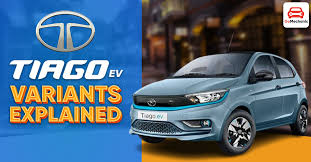Tiago: (127, 50, 310, 158)
